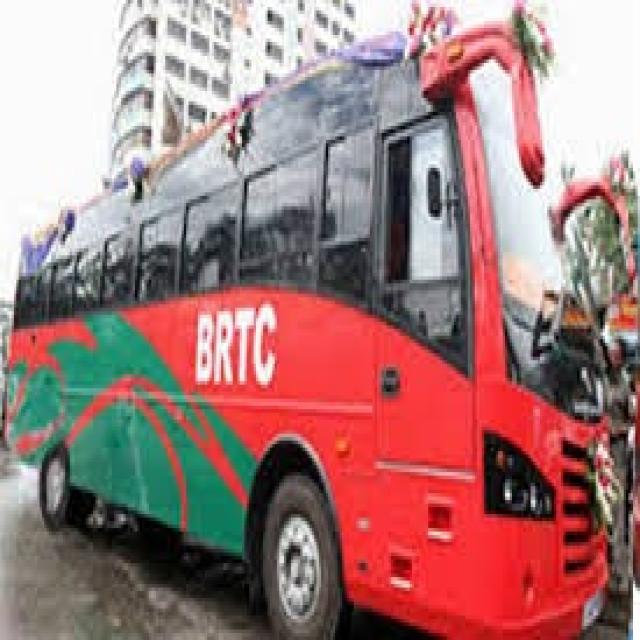bus: (9, 1, 640, 639)
